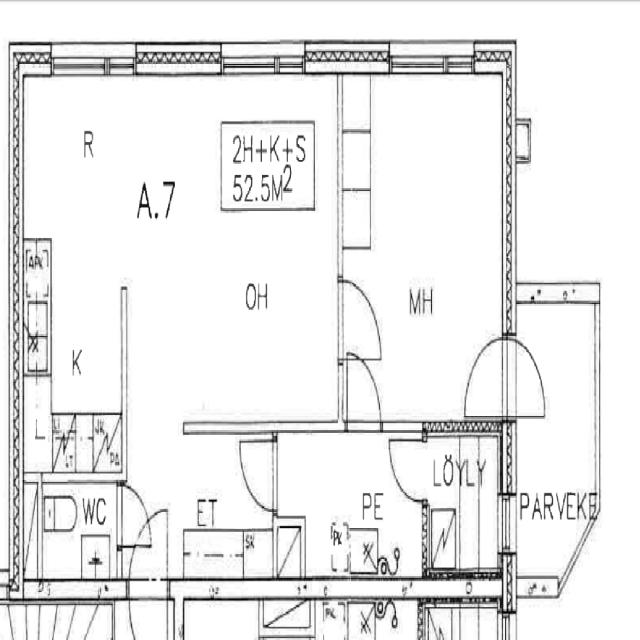door: (502, 338, 554, 416), (464, 338, 516, 416), (129, 500, 167, 600), (337, 282, 381, 359), (239, 441, 277, 511), (347, 354, 380, 432), (391, 439, 429, 502), (129, 580, 167, 640), (117, 486, 151, 546)
